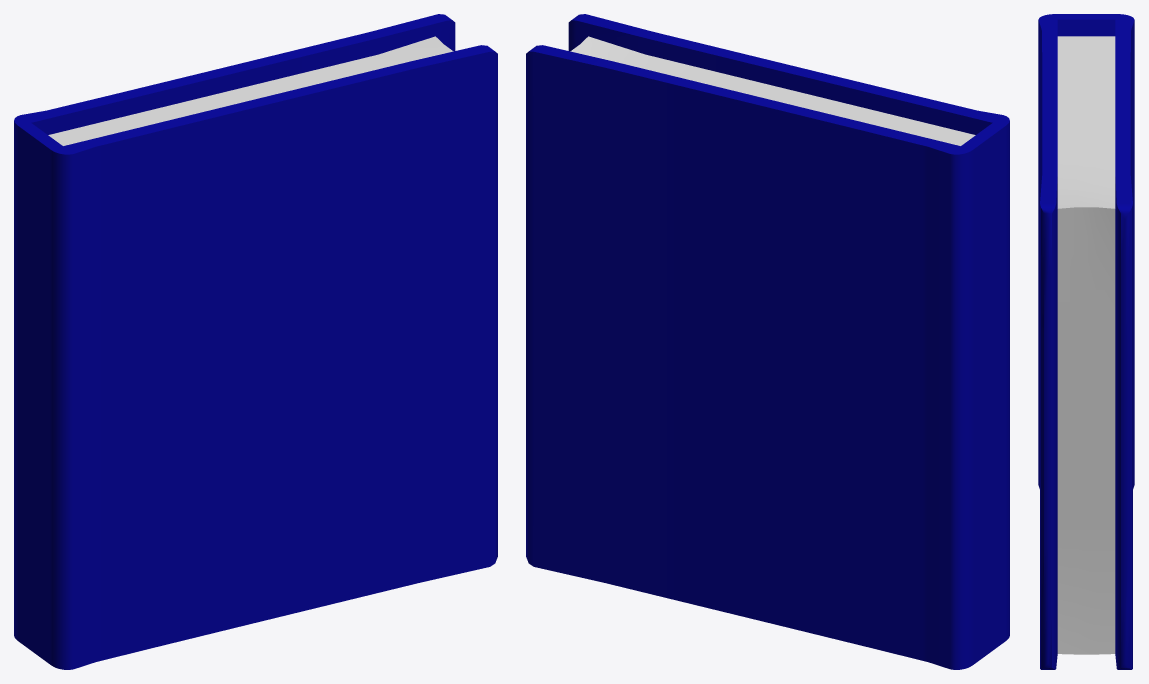
File: book_indigo.fbx
3 views of the same model, side by side, from view 1: azimuth 30°, elevation 25°; view 2: azimuth 150°, elevation 25°; view 3: azimuth 270°, elevation 25° (orthographic). The views are drawn at different scales.
Parts seen in each view (by area): view 1: pCube1; view 2: pCube1; view 3: pCube1.
Boxes of the visible parts, x1,y1,x2,y2 form: pCube1: (14, 14, 497, 669); pCube1: (526, 14, 1009, 669); pCube1: (1038, 14, 1134, 669).
Size of the model in its own units: 23.21 by 25.88 by 4.84.
